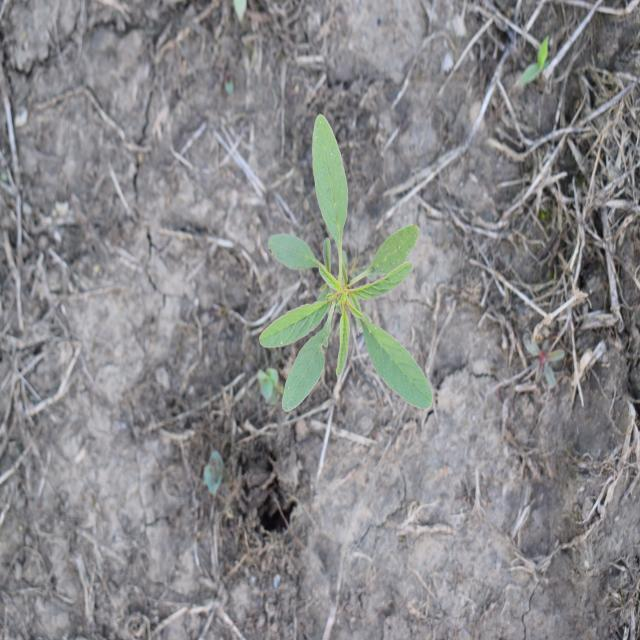Waterhemp: (258, 111, 434, 415)
